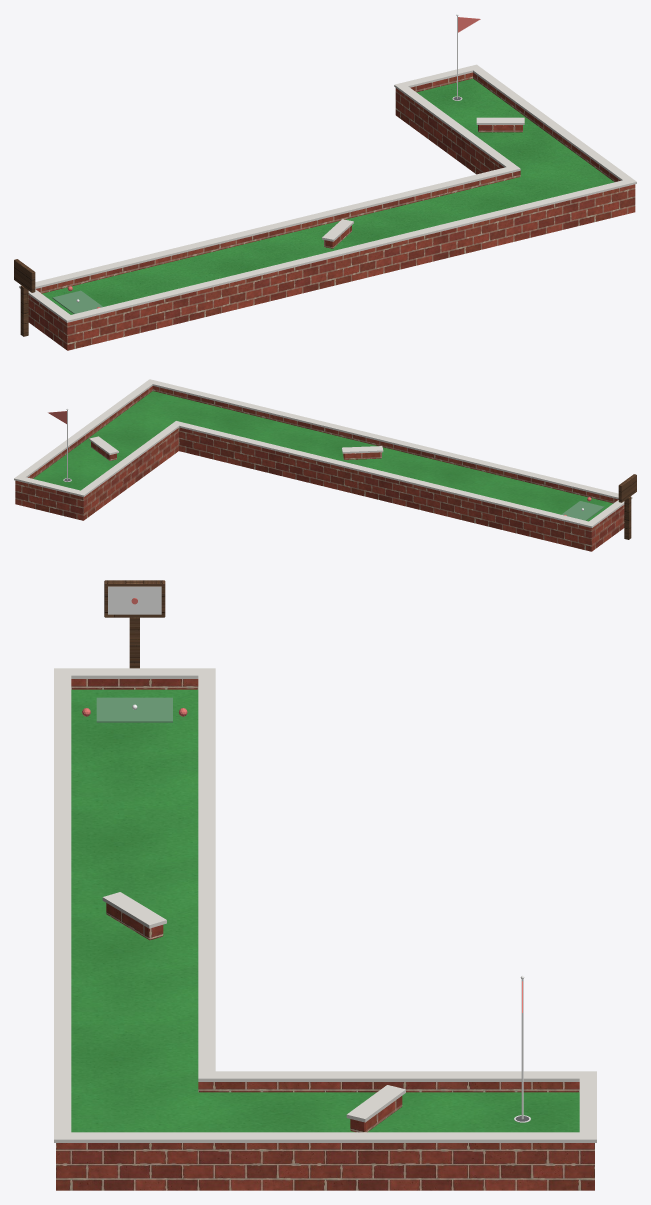
Rendered from hole_1.glb.
3 views of the same model, one above another, from view 1: azimuth 30°, elevation 25°; view 2: azimuth 150°, elevation 25°; view 3: azimuth 270°, elevation 25° (orthographic). The views are drawn at different scales.
Visible parts, largest first — view 1: hole_1_brick, hole_1_turf, hole_1_coping, hole_1_dkwood, hole_1_tee_m; view 2: hole_1_brick, hole_1_turf, hole_1_coping, hole_1_dkwood, hole_1_tee_m; view 3: hole_1_turf, hole_1_brick, hole_1_coping, hole_1_paint_w, hole_1_tee_m, hole_1_dkwood.
Boxes of the visible parts, bbox=[...] form: hole_1_brick: bbox=[28, 72, 635, 350]; hole_1_turf: bbox=[42, 78, 614, 314]; hole_1_coping: bbox=[19, 64, 636, 322]; hole_1_dkwood: bbox=[14, 259, 35, 336]; hole_1_tee_m: bbox=[52, 290, 102, 313]; hole_1_brick: bbox=[15, 386, 624, 551]; hole_1_turf: bbox=[33, 391, 613, 521]; hole_1_coping: bbox=[14, 379, 632, 527]; hole_1_dkwood: bbox=[618, 474, 636, 539]; hole_1_tee_m: bbox=[561, 501, 604, 520]; hole_1_turf: bbox=[71, 689, 579, 1132]; hole_1_brick: bbox=[56, 679, 594, 1190]; hole_1_coping: bbox=[54, 668, 596, 1142]; hole_1_paint_w: bbox=[108, 586, 530, 1122]; hole_1_tee_m: bbox=[96, 697, 172, 722]; hole_1_dkwood: bbox=[104, 580, 165, 668].
Size of the model in its own units: 9.09 by 1.57 by 4.27.
Materials: 10 (4 with a texture image).
